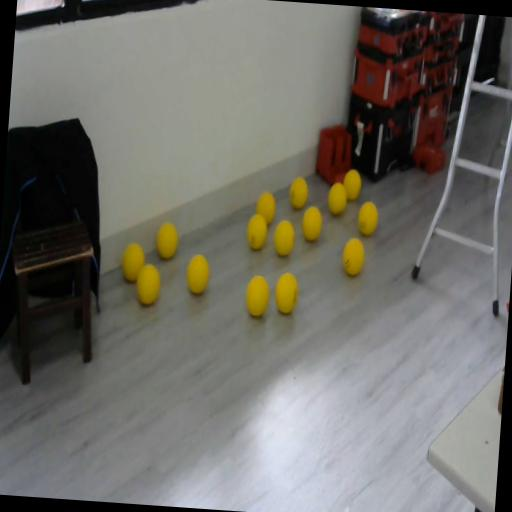FUEL: (134, 261, 162, 307), (243, 273, 271, 318), (184, 252, 211, 296), (120, 240, 146, 284), (274, 272, 300, 314), (340, 237, 366, 277), (154, 220, 180, 260), (272, 218, 296, 257), (254, 190, 278, 228), (301, 205, 324, 243), (326, 180, 348, 216), (357, 200, 379, 236), (288, 176, 309, 210), (342, 168, 362, 202)
